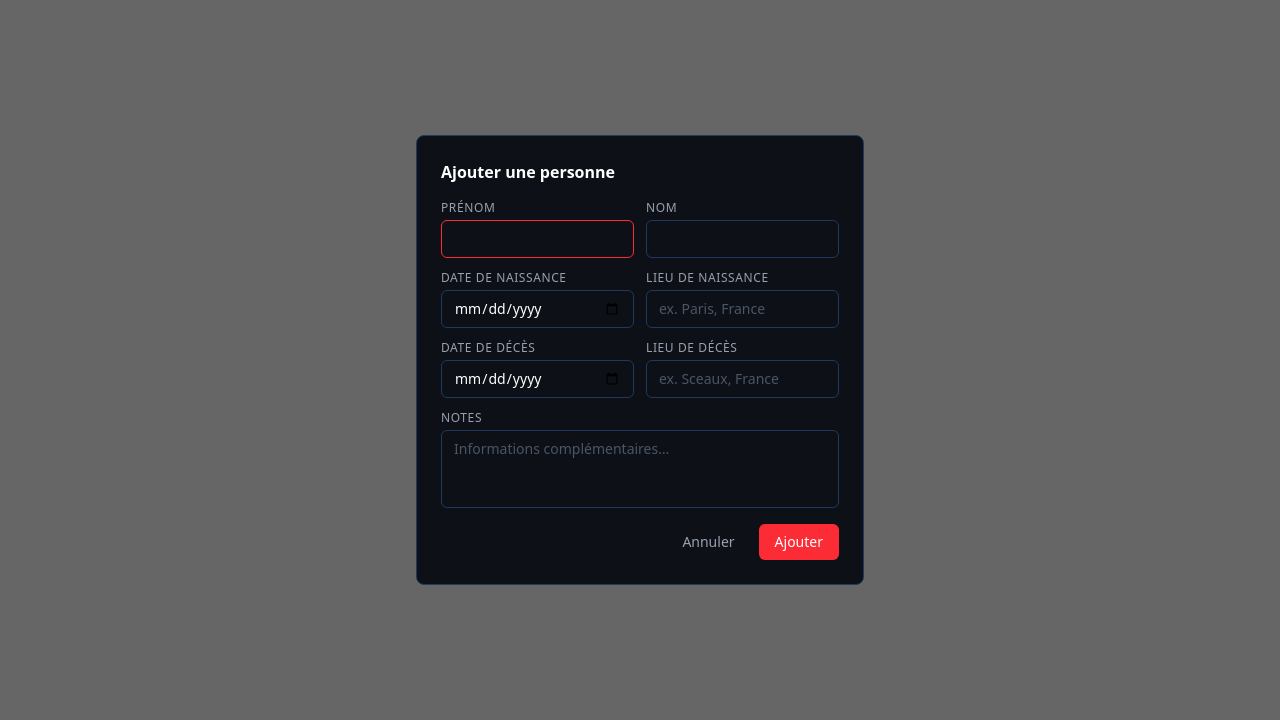
Test: PersonModal › displays an error message when server action returns error
Type "Jean" into the field labelled "Prénom" at {"x": 538, "y": 239}, box [441, 220, 634, 258]
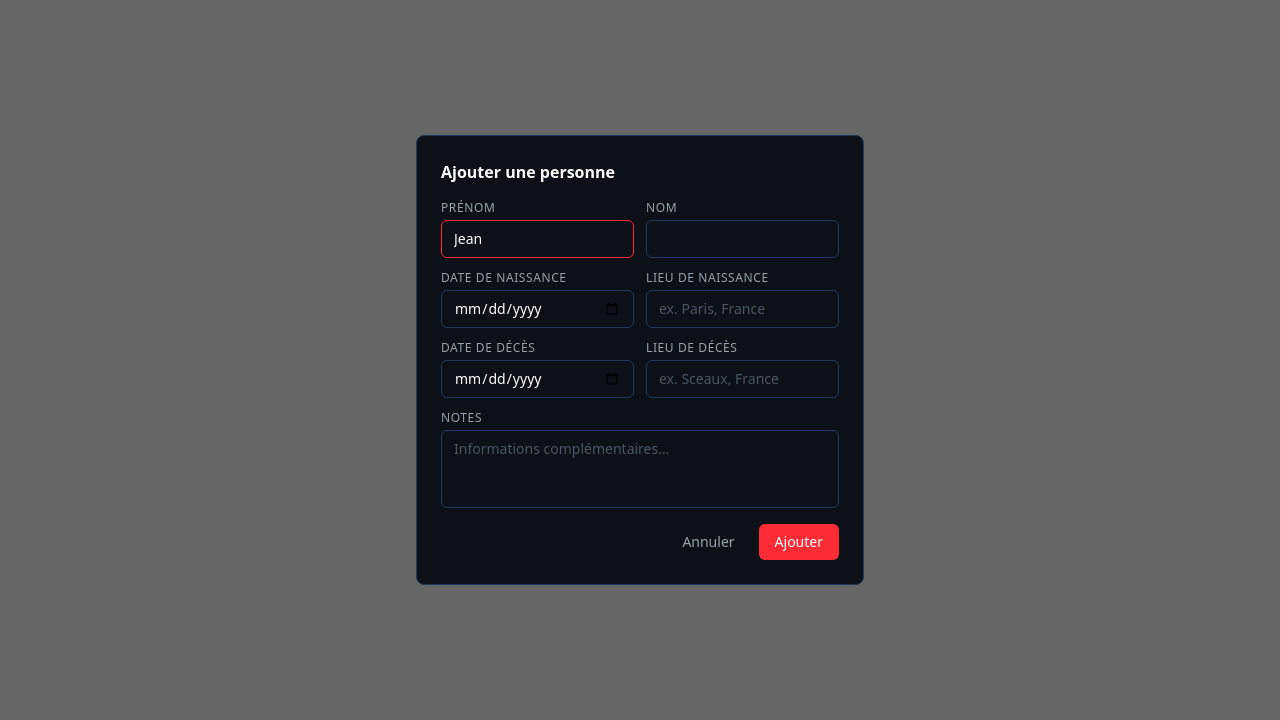
Type "Dupont" into the field labelled "Nom" at {"x": 742, "y": 239}, box [646, 220, 839, 258]
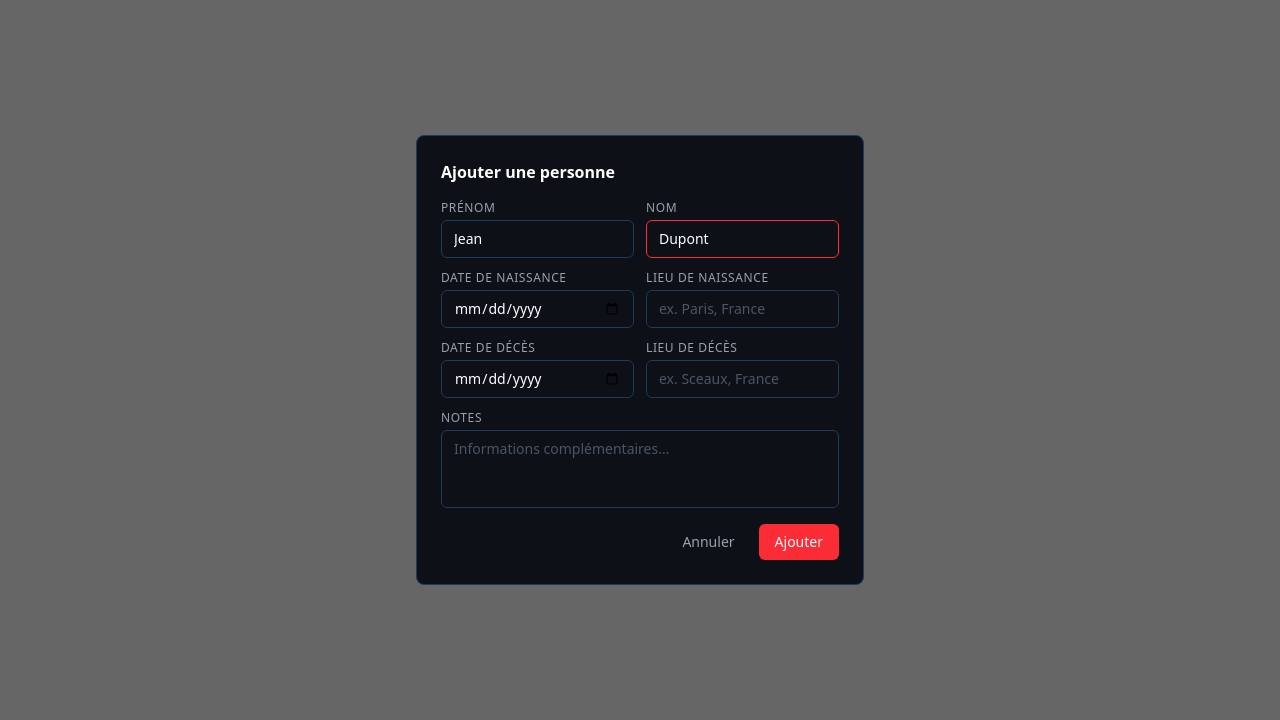
Click the button "Ajouter" at {"x": 799, "y": 542}, box [759, 524, 839, 560]
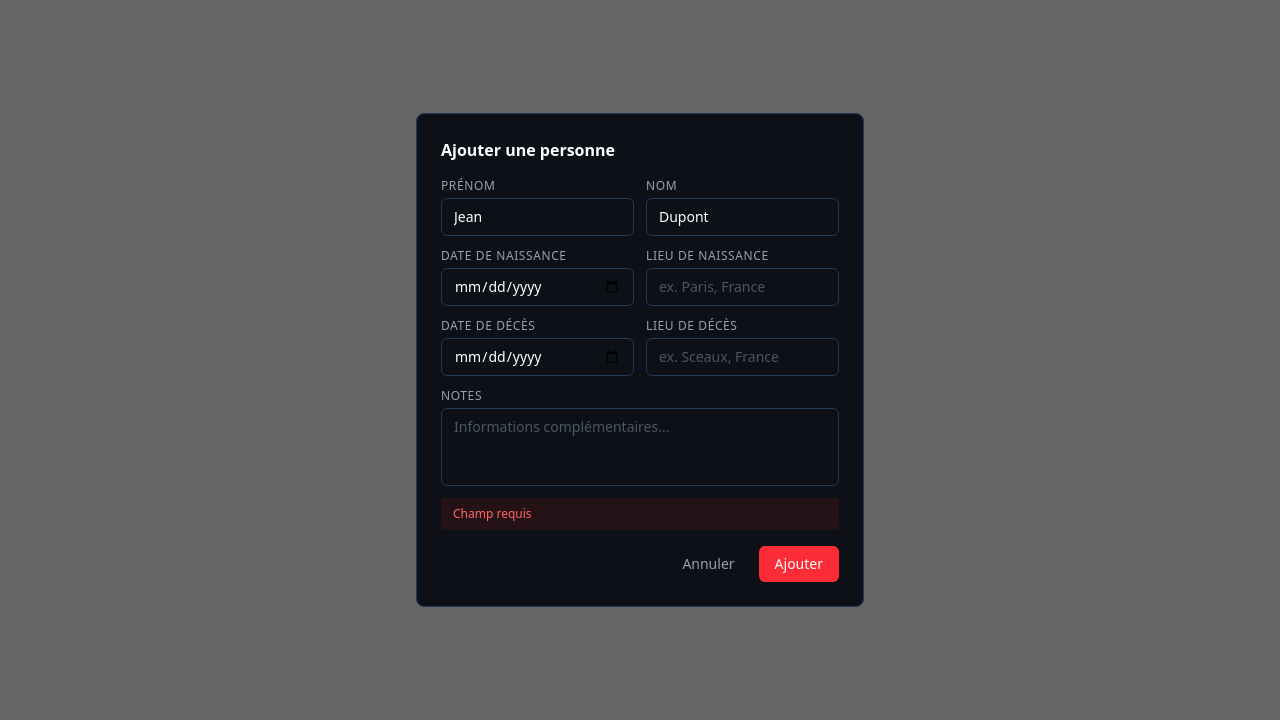
Expected: the text "Champ requis" is shown, [441, 498, 839, 530]
